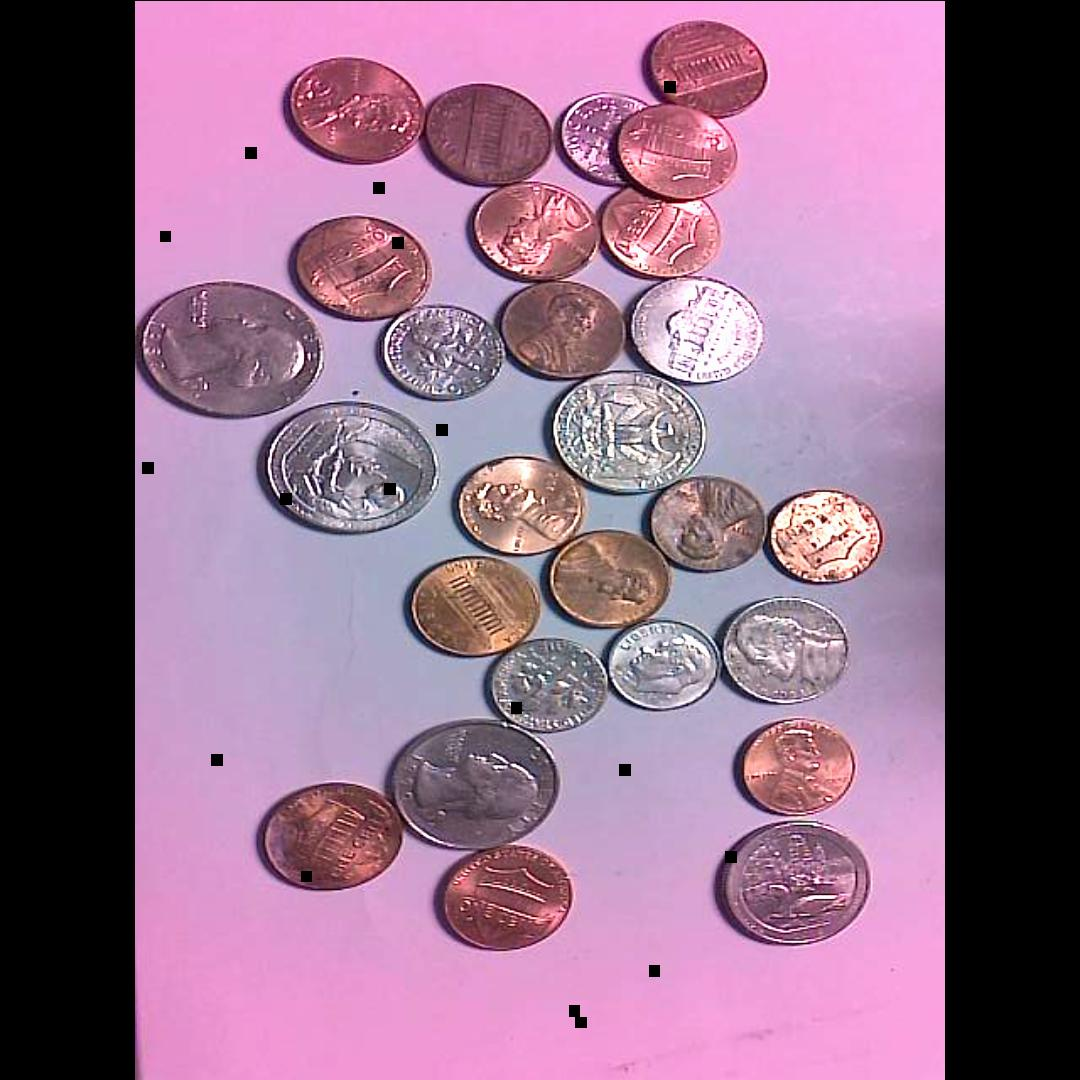Dime: (484, 634, 614, 732), (381, 302, 510, 400), (601, 618, 726, 712), (559, 89, 643, 184)
Nickel: (626, 278, 768, 386), (721, 597, 852, 705)
Penny: (256, 778, 408, 894), (434, 840, 579, 953), (287, 211, 435, 321), (284, 56, 425, 164), (452, 452, 596, 557), (403, 555, 542, 656), (734, 712, 862, 820), (424, 81, 555, 186), (500, 278, 631, 381), (540, 530, 675, 629), (613, 101, 742, 201), (641, 19, 771, 116), (471, 181, 599, 278), (763, 489, 888, 587), (594, 184, 724, 277), (643, 474, 766, 570)
Quarter: (135, 278, 324, 420), (256, 398, 439, 537), (386, 717, 562, 854), (714, 813, 874, 947), (543, 366, 709, 493)
